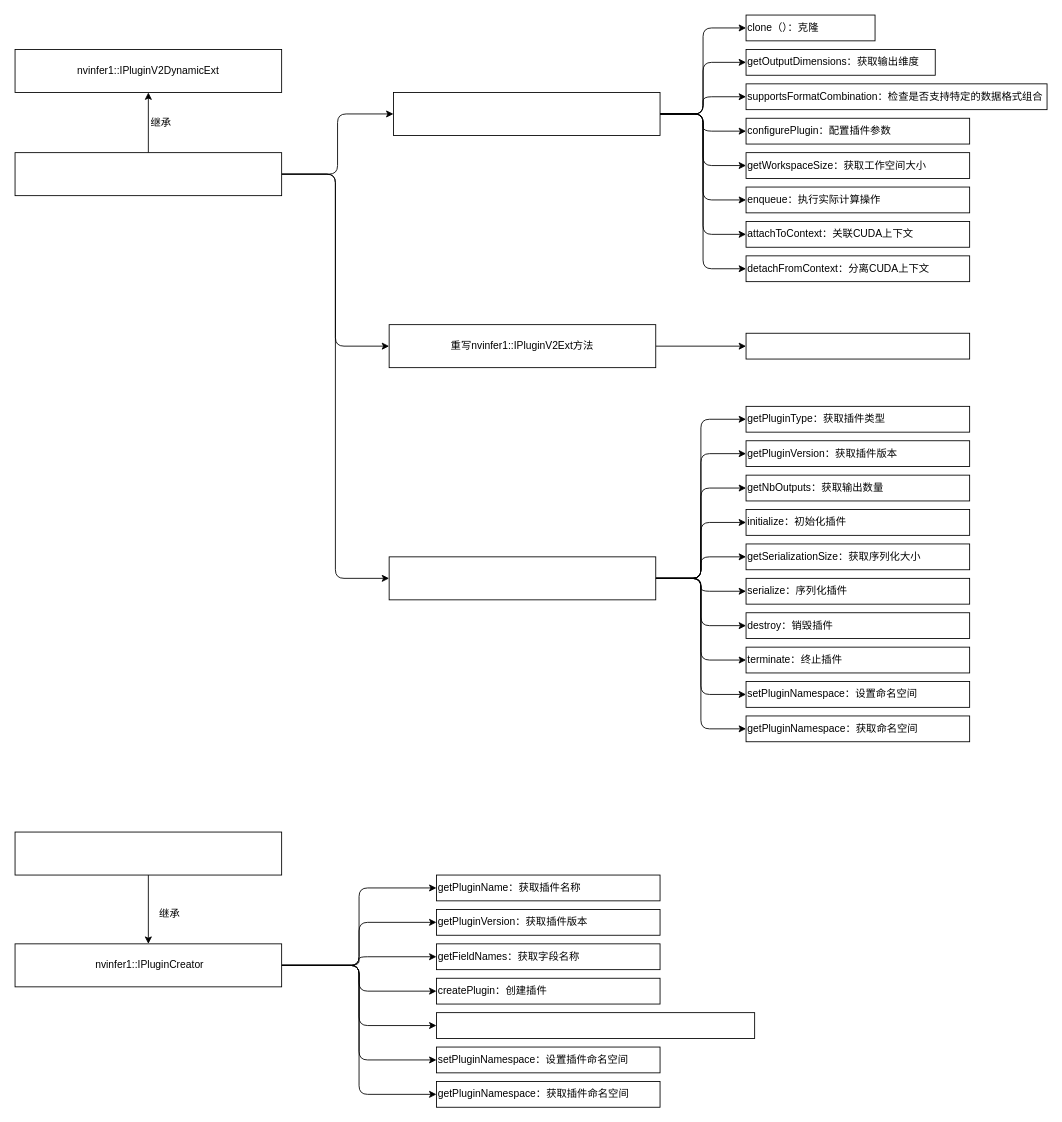
This 1062x1122 diagram has some shape labels left out. Here are the shapes that lost their labels. From the top down, the box of each, then its label:
(393, 92, 660, 135): 重写nvinfer1::IPluginV2DynamicExt方法
(14, 152, 282, 196): 定义一个插件类 DeformableAttentionAggrPlugin
(745, 332, 970, 359): getOutputDataType：获取输出数据类型
(388, 556, 656, 600): 重写nvinfer1::IPluginV2方法
(14, 831, 282, 875): 定义一个插件构造类 DeformableAttentionAggrPluginCreator
(436, 1012, 755, 1038): deserializePlugin：反序列化插件（从序列化数据构建插件）
